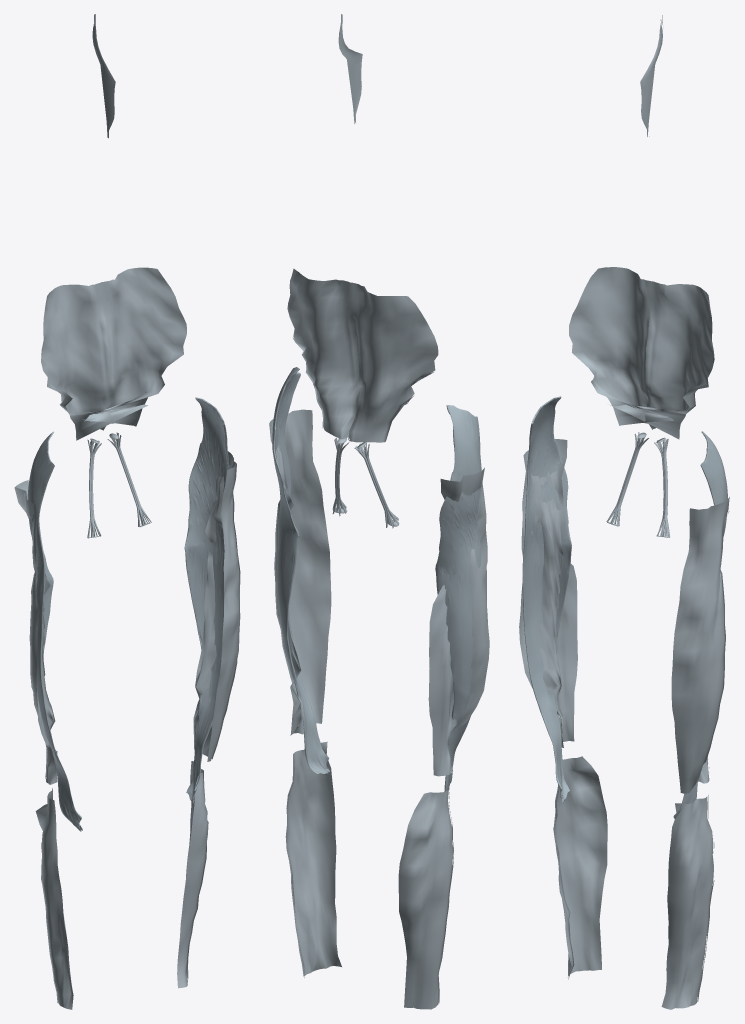
The model's file is fascia.glb.
3 renders of one model, left to right at view 1: azimuth 30°, elevation 25°; view 2: azimuth 150°, elevation 25°; view 3: azimuth 330°, elevation 25°, orthographic. The views are drawn at different scales.
Parts seen in each view (by area): view 1: fascia-thoracolombaire, tractus-ilio-tibial-g, fascia-lata-g, tractus-ilio-tibial-d, fascia-crural-d, fascia-crural-g, fascia-lata-d, fascia-nuchal, sacro-tubereux-g, sacro-tubereux-d; view 2: fascia-thoracolombaire, fascia-lata-g, fascia-crural-d, fascia-crural-g, tractus-ilio-tibial-d, fascia-lata-d, tractus-ilio-tibial-g, fascia-nuchal, sacro-tubereux-d, sacro-tubereux-g; view 3: fascia-thoracolombaire, fascia-lata-g, fascia-crural-d, tractus-ilio-tibial-d, fascia-crural-g, fascia-lata-d, tractus-ilio-tibial-g, fascia-nuchal, sacro-tubereux-g, sacro-tubereux-d.
Boxes of the visible parts, <box> form: fascia-thoracolombaire: <box>41,267,186,440</box>; tractus-ilio-tibial-g: <box>184,397,229,804</box>; fascia-lata-g: <box>193,451,240,761</box>; tractus-ilio-tibial-d: <box>27,431,82,831</box>; fascia-crural-d: <box>35,788,73,1009</box>; fascia-crural-g: <box>177,761,208,988</box>; fascia-lata-d: <box>14,480,57,784</box>; fascia-nuchal: <box>92,14,115,138</box>; sacro-tubereux-g: <box>107,432,151,526</box>; sacro-tubereux-d: <box>87,438,101,538</box>; fascia-thoracolombaire: <box>287,268,438,442</box>; fascia-lata-g: <box>269,409,331,735</box>; fascia-crural-d: <box>398,788,453,1009</box>; fascia-crural-g: <box>285,741,341,977</box>; tractus-ilio-tibial-d: <box>435,405,486,791</box>; fascia-lata-d: <box>428,467,489,776</box>; tractus-ilio-tibial-g: <box>272,367,329,774</box>; fascia-nuchal: <box>338,14,362,123</box>; sacro-tubereux-d: <box>354,442,399,528</box>; sacro-tubereux-g: <box>332,438,349,516</box>; fascia-thoracolombaire: <box>569,267,714,439</box>; fascia-lata-g: <box>671,497,729,793</box>; fascia-crural-d: <box>553,756,607,979</box>; tractus-ilio-tibial-d: <box>522,396,571,802</box>; fascia-crural-g: <box>661,795,714,1009</box>; fascia-lata-d: <box>519,439,577,747</box>; tractus-ilio-tibial-g: <box>673,431,727,818</box>; fascia-nuchal: <box>640,15,662,136</box>; sacro-tubereux-g: <box>654,437,669,537</box>; sacro-tubereux-d: <box>606,432,648,526</box>.
Bounding box in the file's own units: 0.3373 × 1.53 × 0.1792.
